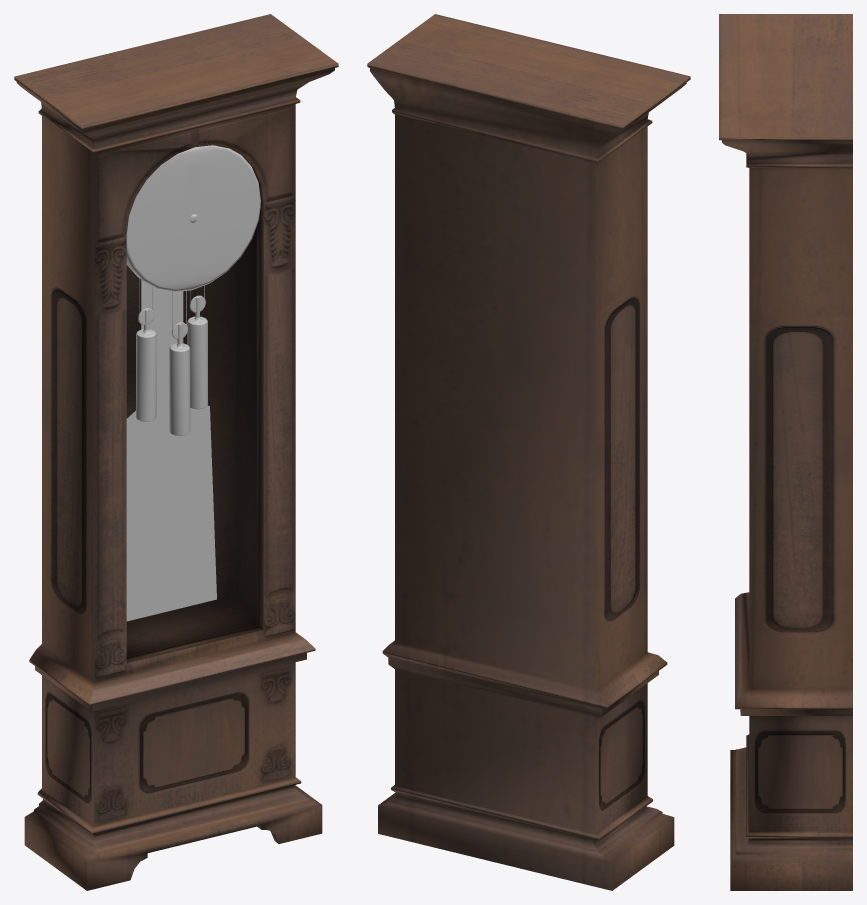
File: standuhr_01.fbx
3 views of the same model, side by side, from view 1: azimuth 30°, elevation 25°; view 2: azimuth 150°, elevation 25°; view 3: azimuth 270°, elevation 25° (orthographic).
Visible parts, largest first — view 1: standuhr_01, pendel, stundenzeiger; view 2: standuhr_01; view 3: standuhr_01.
Boxes of the visible parts, left/top/right/bottom form: standuhr_01: left=14, top=14, right=338, bottom=890; pendel: left=126, top=280, right=216, bottom=621; stundenzeiger: left=185, top=173, right=202, bottom=225; standuhr_01: left=367, top=14, right=690, bottom=890; standuhr_01: left=719, top=14, right=852, bottom=890.
Bounding box in the file's own units: 71.88 × 206 × 33.02.
